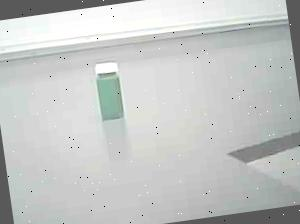Bottle C: (86, 52, 136, 130)
